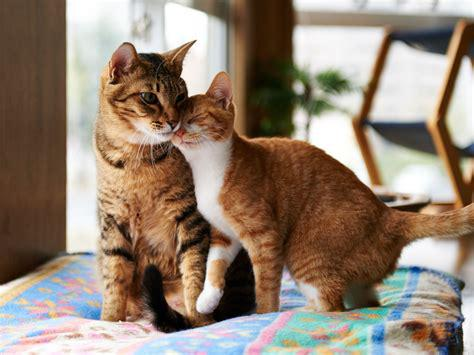cat: (171, 72, 473, 312), (92, 40, 221, 329)
